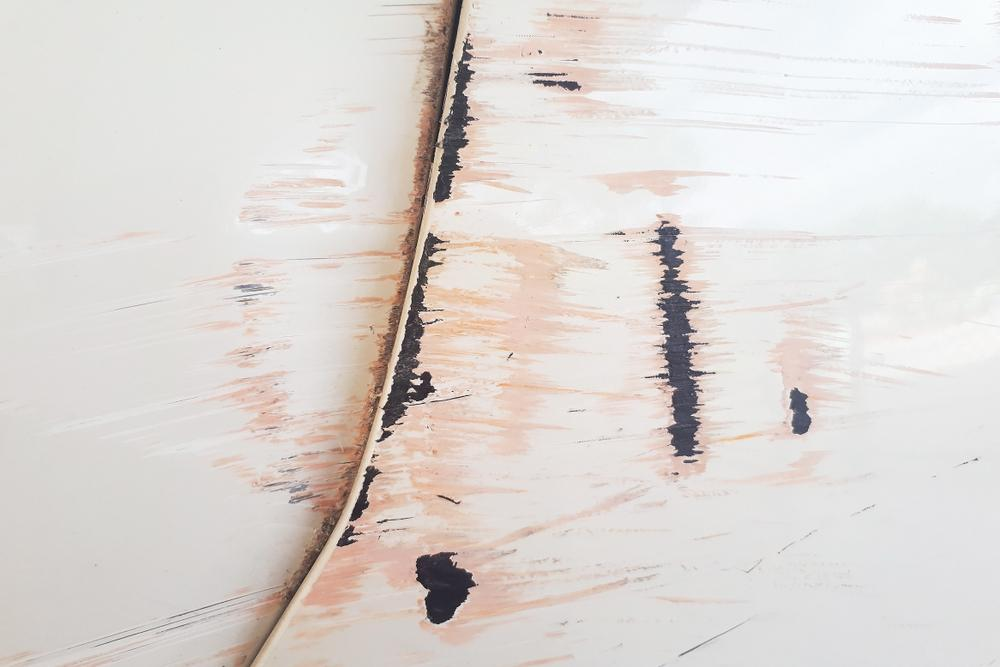scratch: (250, 0, 1000, 667), (0, 0, 463, 667)
